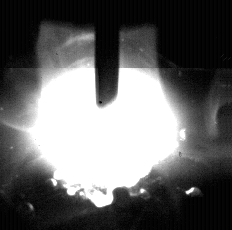arame: (95, 0, 121, 108)
poca: (25, 0, 186, 230)
